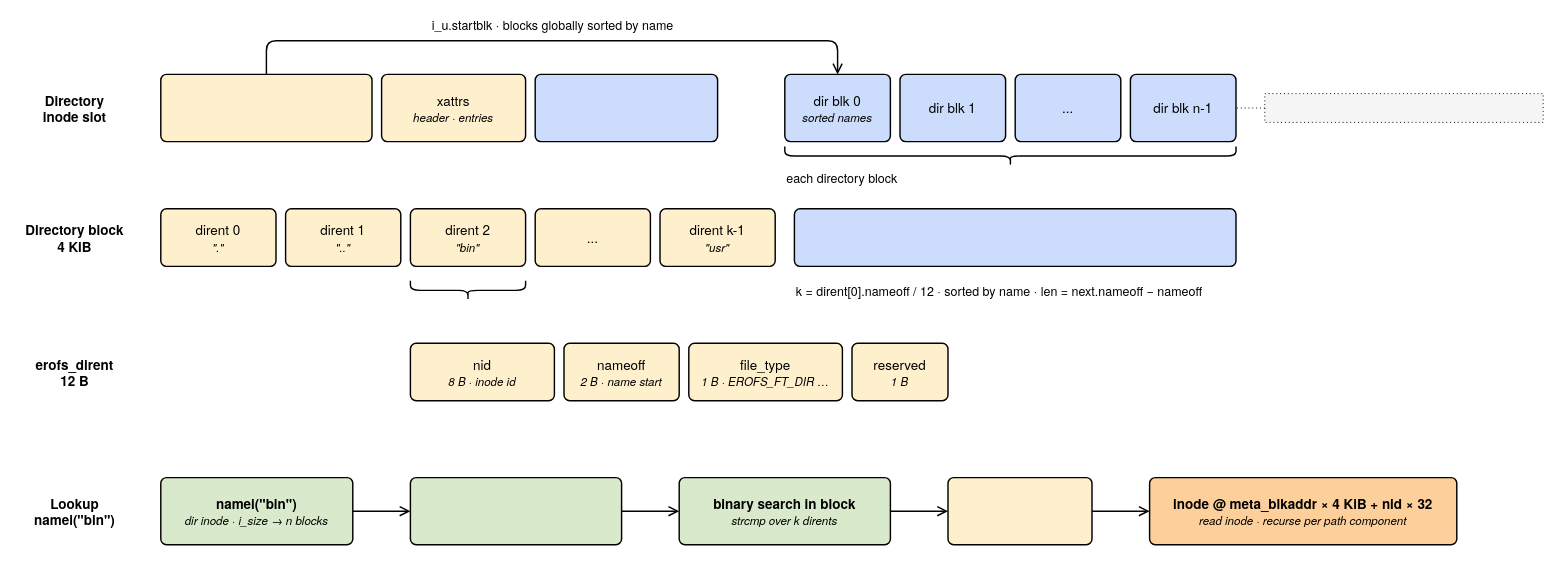
The diagram is 1560 pixels wide and 562 high, and some of its shapes have lost their labels. Each missing label, with the centre of its shape:
binary search blocks compare 1st name of mid block: point (515, 510)
dirent.nid 8 B: point (1019, 510)
inode S_IFDIR · i_size = dir bytes: point (266, 107)
ls -la /mnt # dirents come back sorted: point (1403, 107)
names "." ".." "bin" … "usr" · packed · no NUL · zero pad at end: point (1014, 237)
tail dirents FLAT_INLINE · partial block: point (626, 107)
